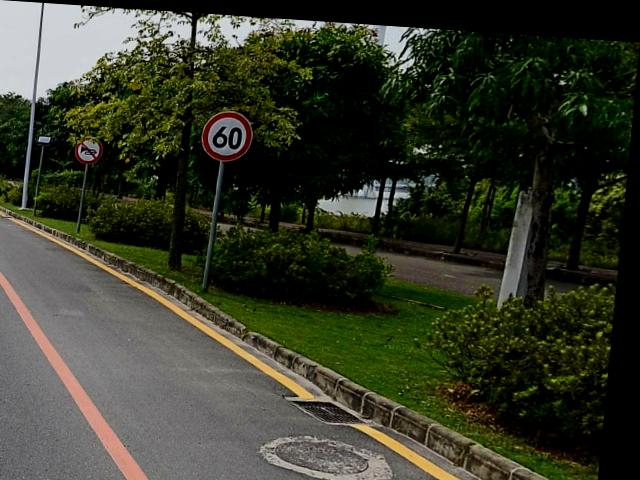limit60: (201, 107, 258, 162)
